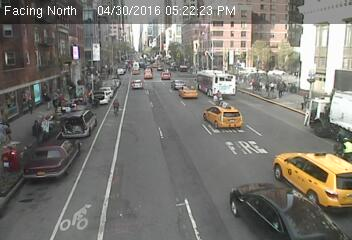neg: (44, 159, 80, 208), (193, 102, 229, 151), (154, 92, 183, 131), (77, 122, 100, 153), (103, 183, 123, 210), (165, 149, 180, 168), (145, 54, 159, 73), (171, 64, 180, 76), (184, 68, 191, 76)
pos: (34, 114, 56, 142), (25, 116, 46, 144), (47, 92, 65, 116), (63, 82, 79, 104), (23, 96, 37, 115), (40, 90, 53, 108), (274, 82, 287, 100), (104, 66, 116, 82), (254, 76, 265, 90), (241, 75, 249, 86)
